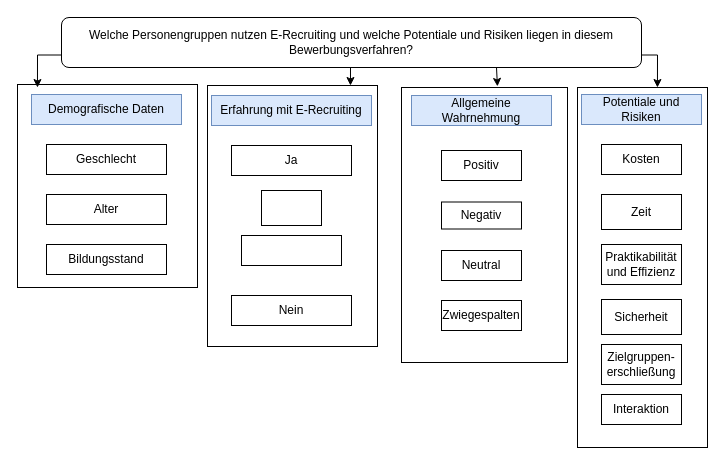
This 725x465 diagram has some shape labels left out. Here are the shapes that lost their labels. From the top down, the centre of each, then its label:
(291,208): Wo?
(291,250): Welcher Arbeitgeber?
